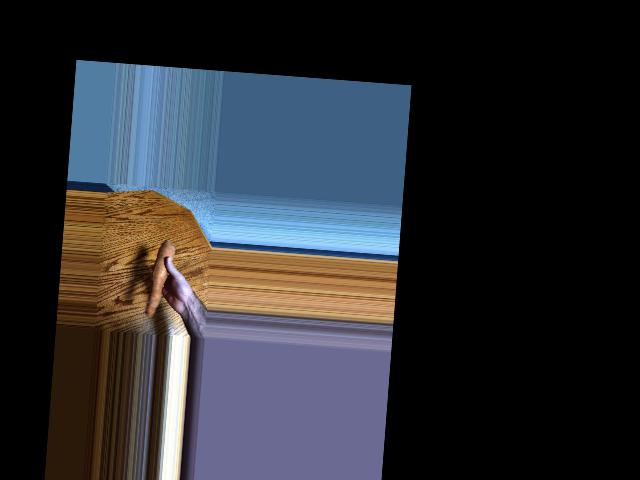sweet_potato: (148, 240, 169, 317)
